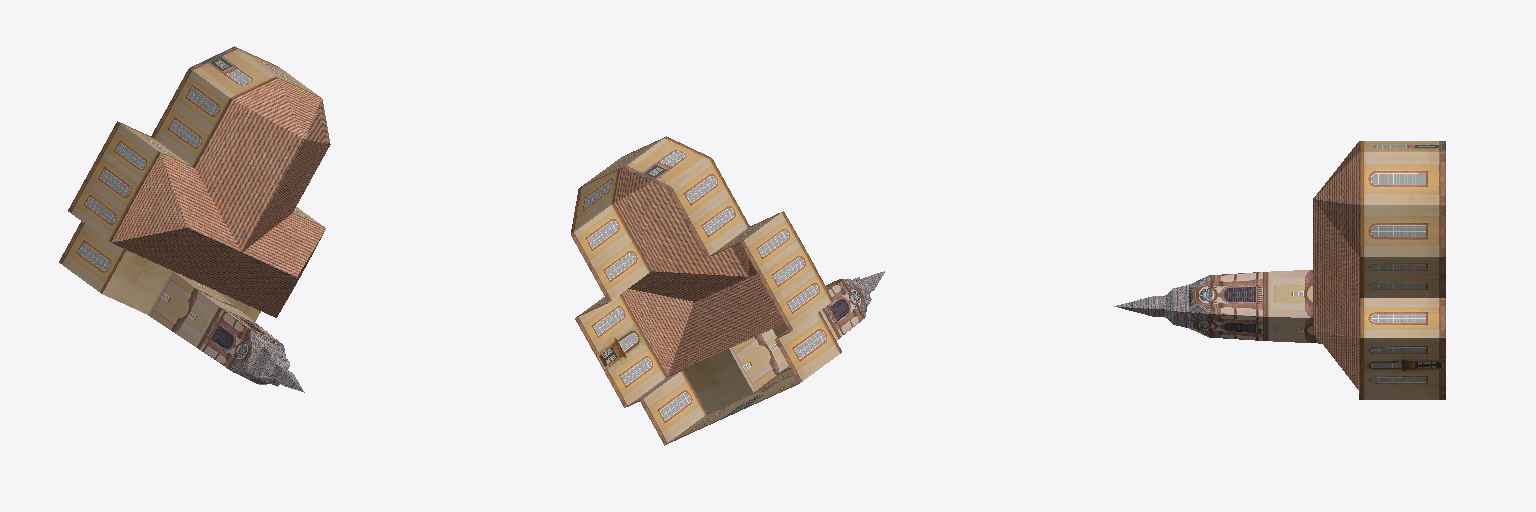
3 views of the same model, side by side, from view 1: azimuth 30°, elevation 25°; view 2: azimuth 150°, elevation 25°; view 3: azimuth 270°, elevation 25° (orthographic).
Visible parts, largest first — view 1: DEU_599_KARLSRUHE_GEDAECH_L; view 2: DEU_599_KARLSRUHE_GEDAECH_L; view 3: DEU_599_KARLSRUHE_GEDAECH_L.
Part boxes in pixels (x1,y1,x2,y2): DEU_599_KARLSRUHE_GEDAECH_L: (59, 46, 330, 392); DEU_599_KARLSRUHE_GEDAECH_L: (571, 136, 884, 445); DEU_599_KARLSRUHE_GEDAECH_L: (1114, 141, 1445, 399).
Bounding box in the file's own units: 23.52 × 26.28 × 29.62.
Materials: 1 (1 with a texture image).